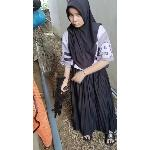Senapan: (51, 72, 71, 120)
